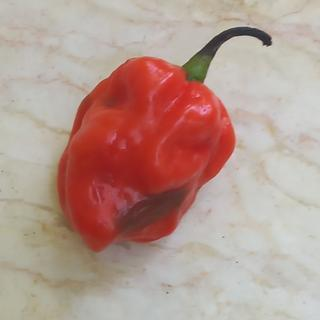Defect: (110, 174, 199, 244)
